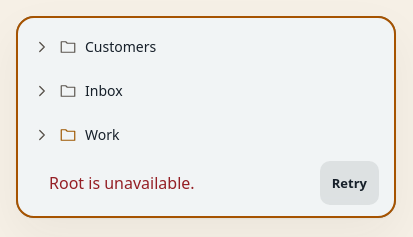
Test: NotesTree › stops reporting busy when the root listing fails and offers Retry
The image size is (413, 237).
Expected: the message reads "Root is unavailable.", 49,172 -> 195,194
Click the button "Retry". click: (349, 183)
box: 320,161 -> 379,205
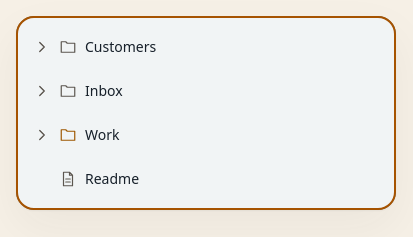
Expected: the list item "Readme" is shown, 59,169 -> 139,188
Expected: the message "Root is unavailable." is gone
